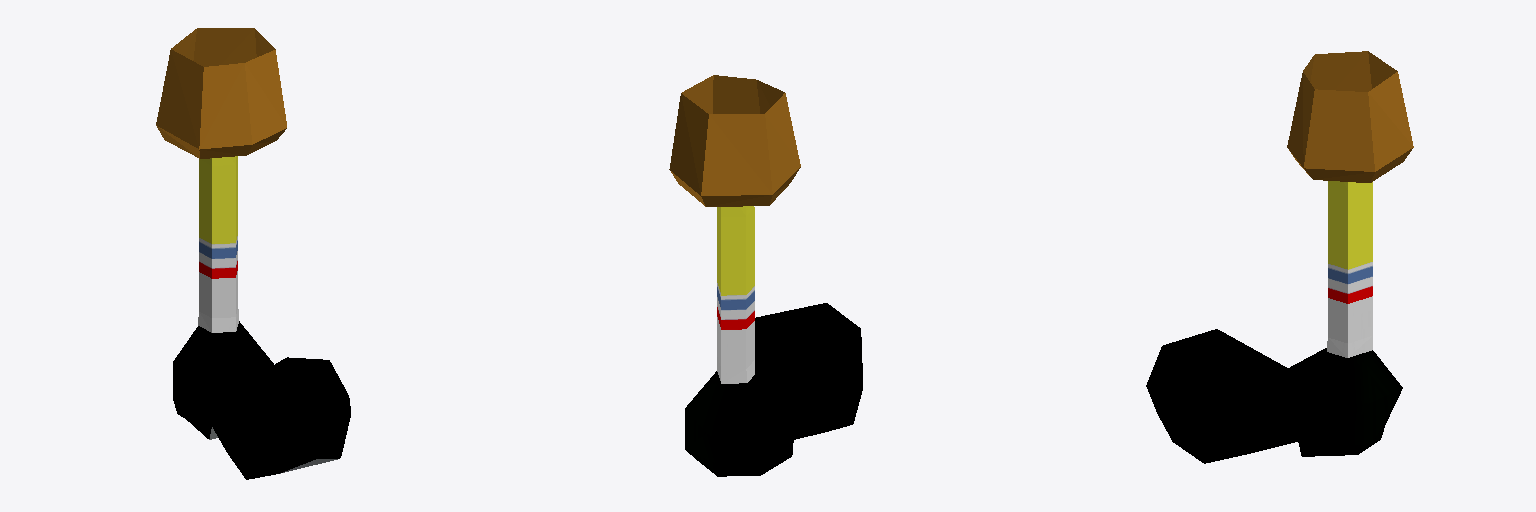
3 views of the same model, side by side, from view 1: azimuth 30°, elevation 25°; view 2: azimuth 150°, elevation 25°; view 3: azimuth 270°, elevation 25° (orthographic).
Parts seen in each view (by area): view 1: pasted__pasted__polySurface1 pasted__group30 pasted__pasted__gro; view 2: pasted__pasted__polySurface1 pasted__group30 pasted__pasted__gro; view 3: pasted__pasted__polySurface1 pasted__group30 pasted__pasted__gro.
Boxes of the visible parts, <box> form: pasted__pasted__polySurface1 pasted__group30 pasted__pasted__gro: <box>156,28,350,479</box>; pasted__pasted__polySurface1 pasted__group30 pasted__pasted__gro: <box>669,75,862,476</box>; pasted__pasted__polySurface1 pasted__group30 pasted__pasted__gro: <box>1146,51,1413,463</box>.
Bounding box in the file's own units: 0.2323 × 0.7024 × 0.4611.
Materials: 1 (1 with a texture image).